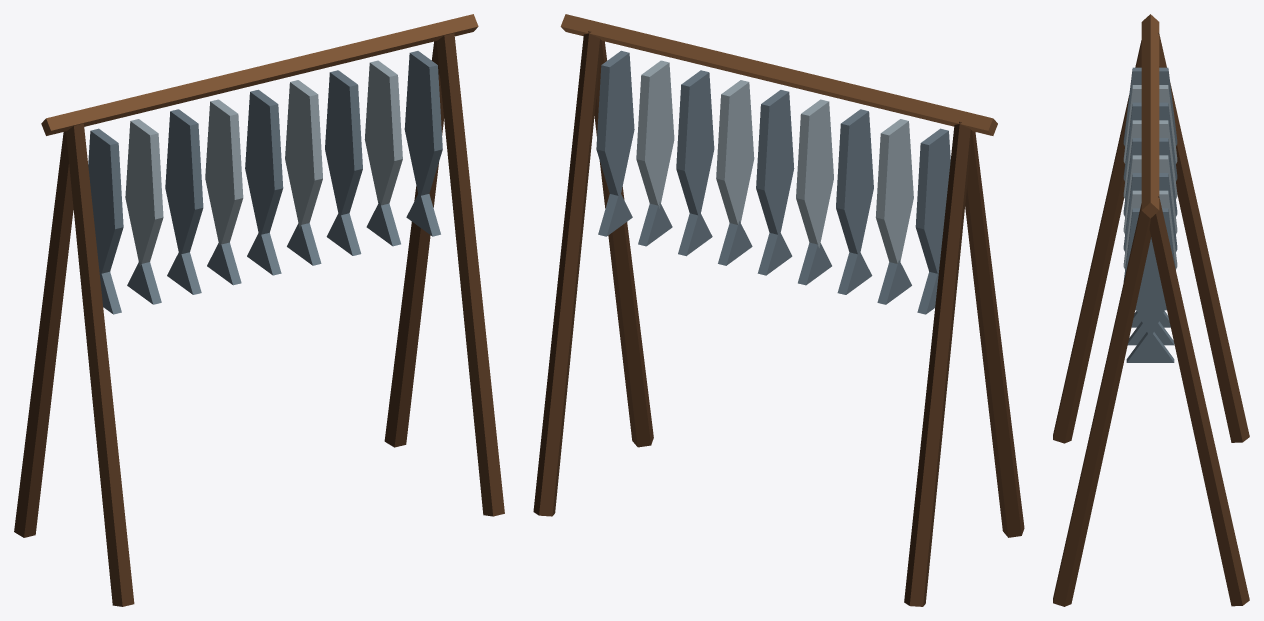
File: pile_fish_3.glb
3 views of the same model, side by side, from view 1: azimuth 30°, elevation 25°; view 2: azimuth 150°, elevation 25°; view 3: azimuth 270°, elevation 25° (orthographic). The views are drawn at different scales.
Parts seen in each view (by area): view 1: pile_fish_3; view 2: pile_fish_3; view 3: pile_fish_3.
Part boxes in pixels (<box>): pile_fish_3: <box>14,14,504,606</box>; pile_fish_3: <box>533,14,1024,606</box>; pile_fish_3: <box>1053,14,1249,606</box>.
Bounding box in the file's own units: 1.5 × 1.54 × 0.6621.
